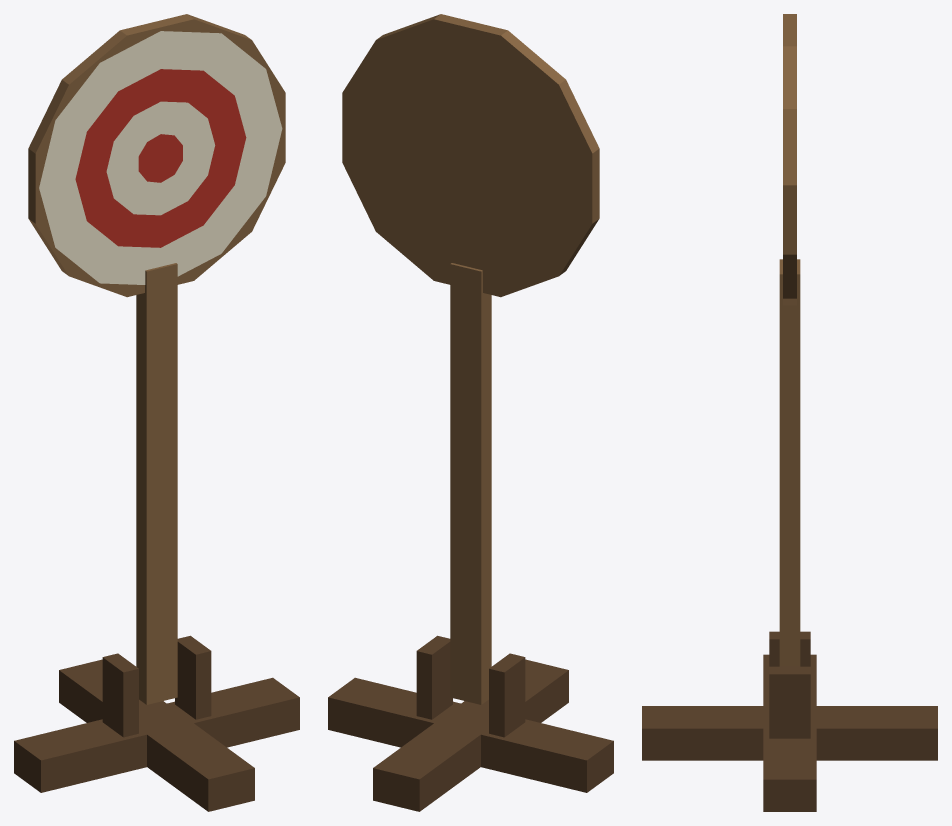
The model's file is target_board.glb.
3 views of the same model, side by side, from view 1: azimuth 30°, elevation 25°; view 2: azimuth 150°, elevation 25°; view 3: azimuth 270°, elevation 25° (orthographic).
Parts seen in each view (by area): view 1: Board, Body; view 2: Board, Body; view 3: Body, Board.
Boxes of the visible parts, x1,y1,x2,y2 form: Board: (28, 14, 285, 704); Body: (14, 635, 299, 811); Board: (342, 14, 599, 704); Body: (328, 635, 613, 811); Body: (642, 631, 937, 811); Board: (779, 14, 800, 666).
Size of the model in its own units: 0.5 by 1.34 by 0.5.
